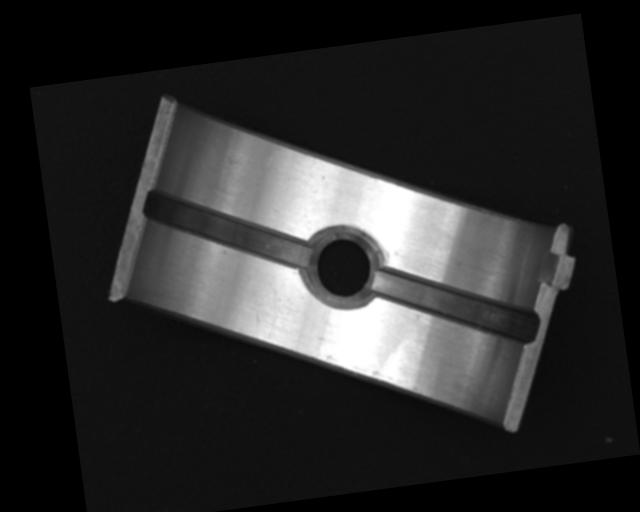gap: (141, 170, 312, 290), (370, 249, 539, 363)
hole: (303, 220, 382, 314)
